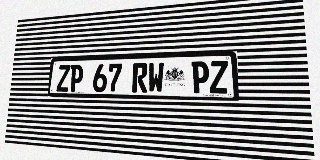6: (93, 64, 108, 92)
7: (107, 63, 122, 92)
P: (191, 61, 209, 93), (69, 64, 84, 92)
R: (132, 63, 148, 93)
W: (148, 62, 164, 93)
Z: (209, 61, 228, 93), (56, 65, 70, 92)
